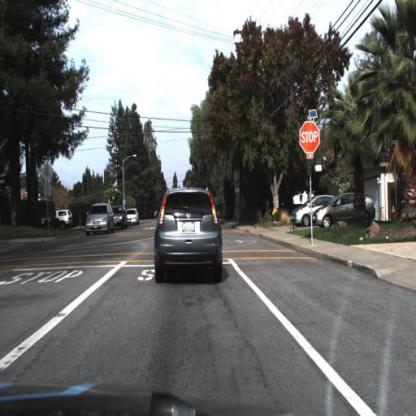car: (148, 173, 229, 299), (311, 189, 385, 235), (291, 193, 331, 229), (84, 198, 116, 241), (288, 197, 315, 235), (51, 205, 74, 230), (115, 201, 130, 232), (125, 203, 142, 230)
